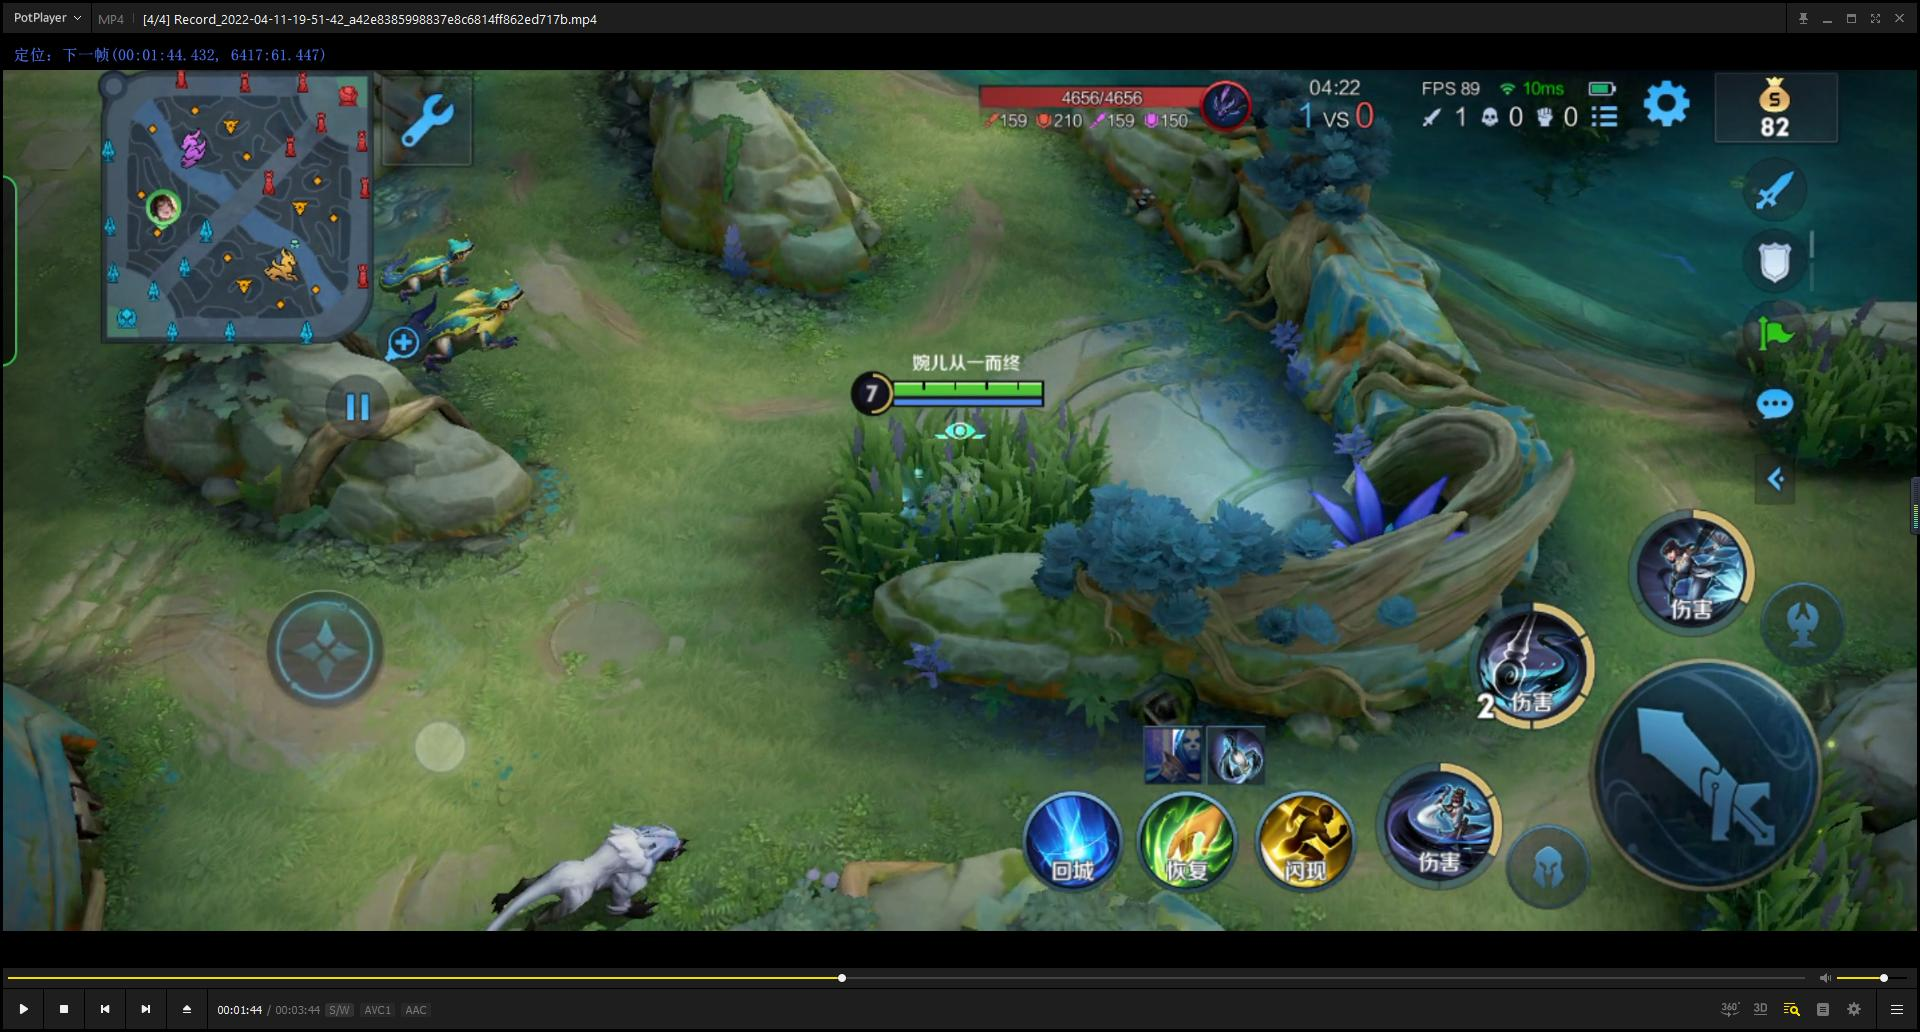Hero: (856, 441, 1028, 549)
Lizard: (396, 273, 545, 383), (368, 216, 490, 296)
Wolf: (436, 785, 701, 937)
